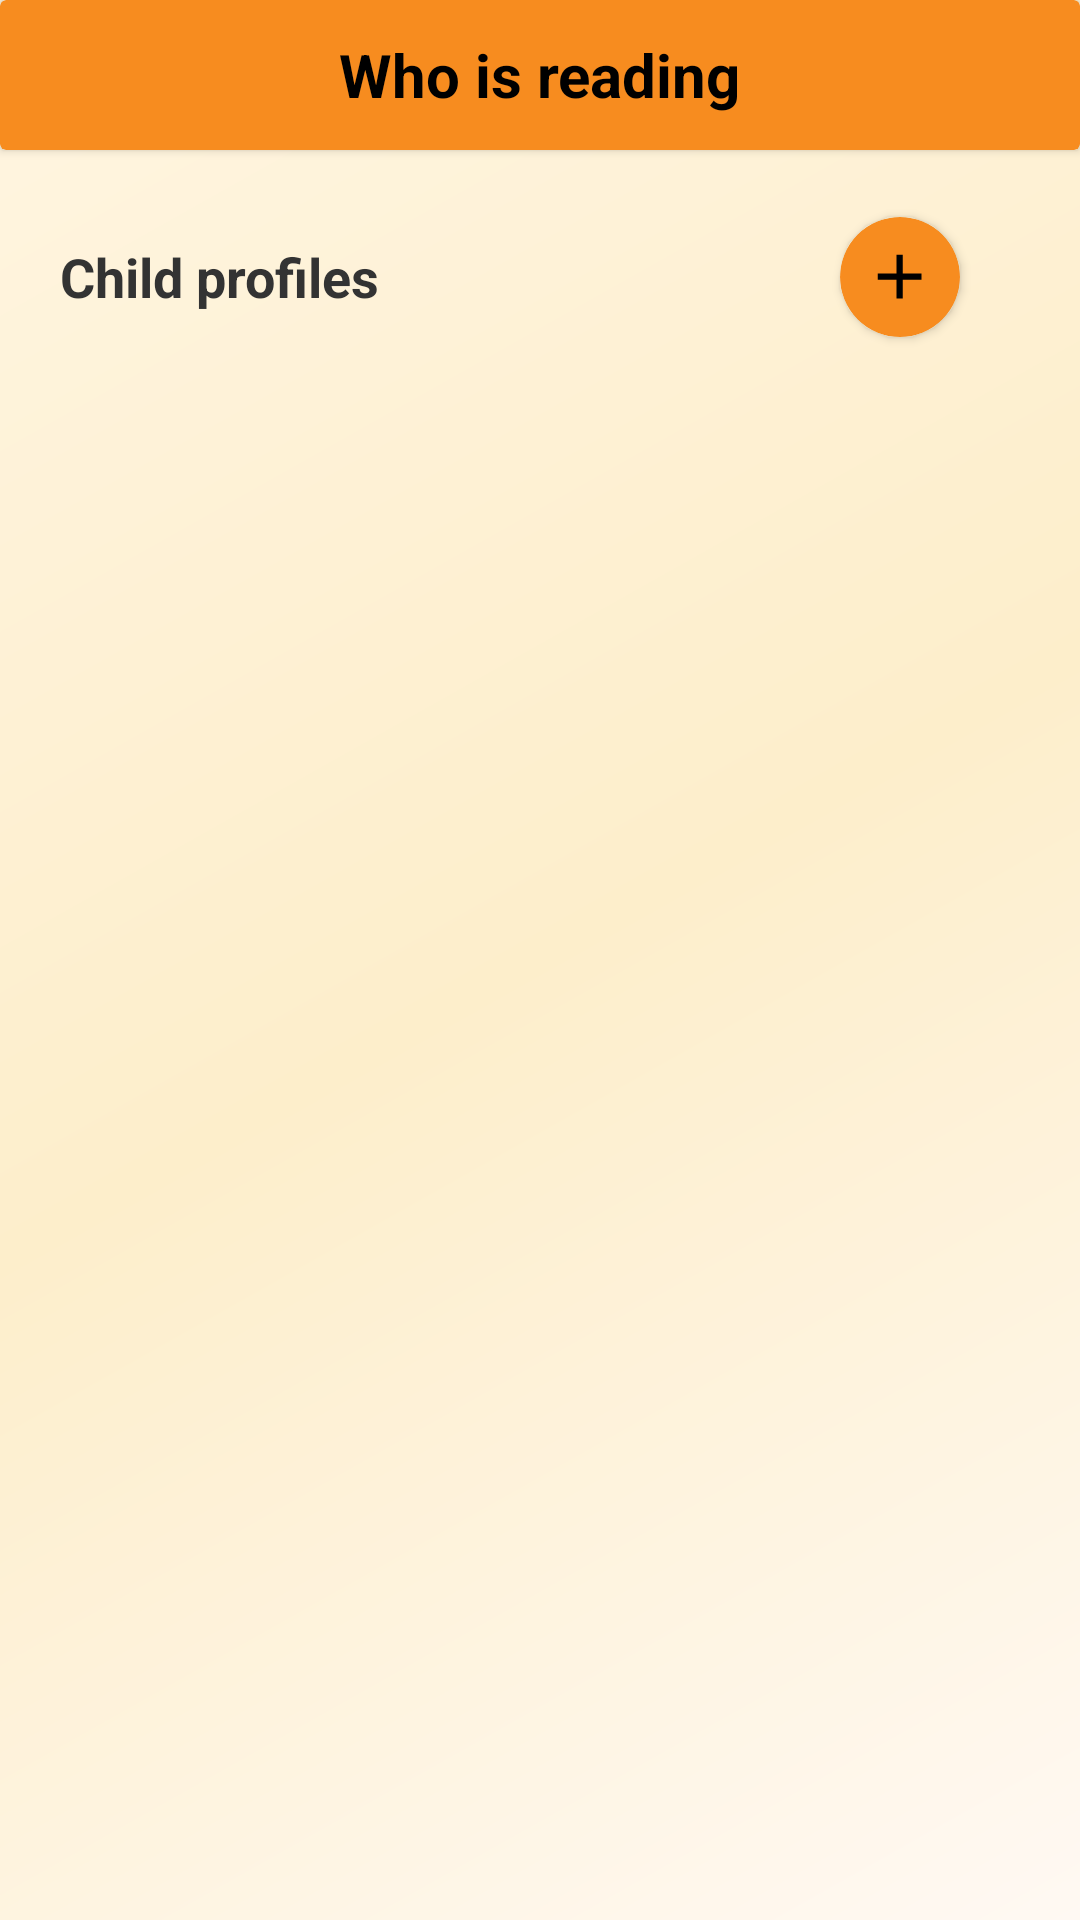

Icon click points for this 1080 x 1920 phone screenshot, format (x=x, y=y):
add: (x=899, y=276)
